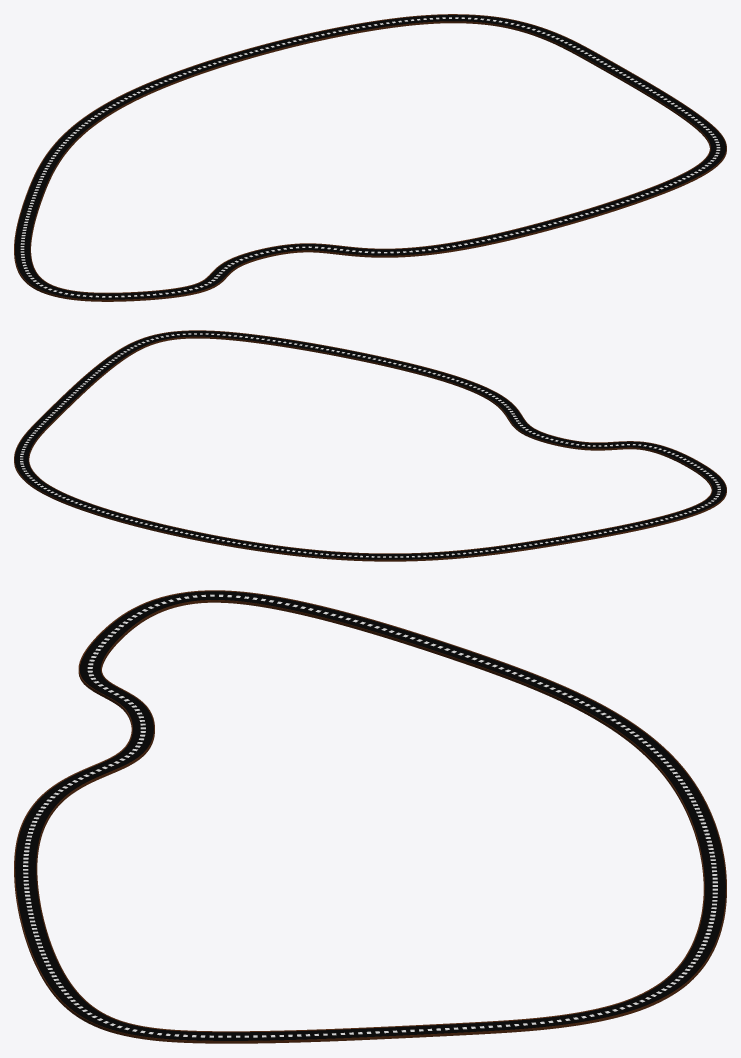
Rendered from roadflat2.fbx.
The picture shows the model from 3 angles, top to bottom: view 1: azimuth 30°, elevation 25°; view 2: azimuth 150°, elevation 25°; view 3: azimuth 270°, elevation 25°; orthographic projection. The views are drawn at different scales.
Visible parts, largest first — view 1: road tile.sample.001; view 2: road tile.sample.001; view 3: road tile.sample.001.
Boxes of the visible parts, box(x1,y1,x2,y2) form: road tile.sample.001: box(14, 14, 726, 301); road tile.sample.001: box(14, 330, 726, 561); road tile.sample.001: box(14, 590, 726, 1043).
Size of the model in its own units: 1522 by 4.08 by 1017.
